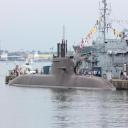submarine: (10, 38, 117, 87)
